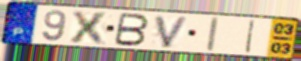9: (40, 9, 67, 42)
B: (112, 12, 151, 48)
I: (205, 16, 220, 53), (243, 19, 257, 54)
V: (153, 14, 191, 49)
X: (67, 9, 112, 47)
